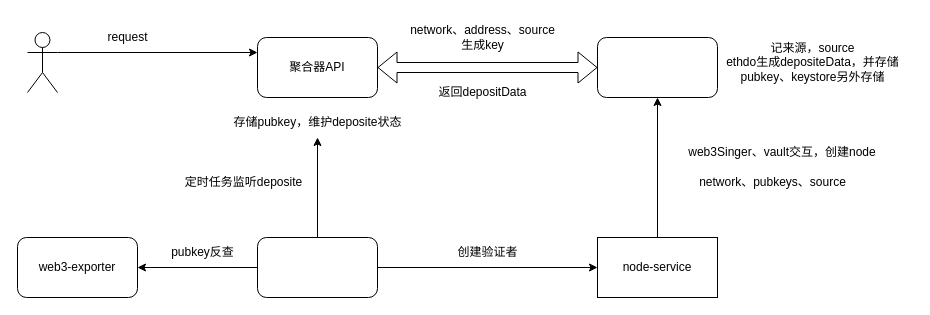
The diagram is 930 pixels wide and 315 high, and some of its shapes have lost their labels. Here are the shapes that lost their labels. From the top down, the centre of each, then its label:
At [657,67]: "manager".
At [317,267]: "node-task".
